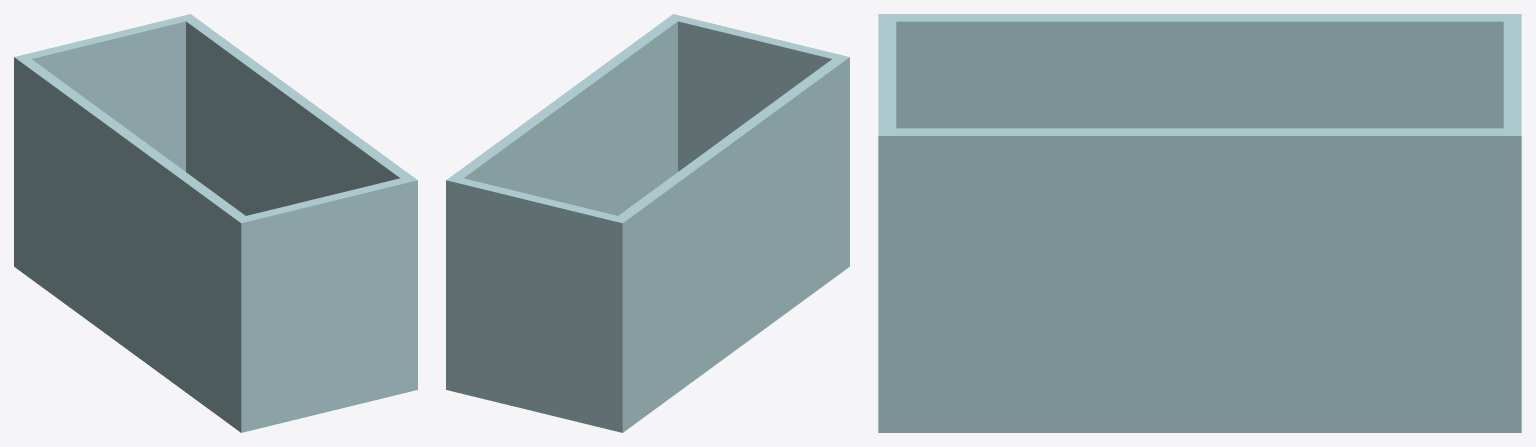
The model's file is aquarium.fbx.
3 views of the same model, side by side, from view 1: azimuth 30°, elevation 25°; view 2: azimuth 150°, elevation 25°; view 3: azimuth 270°, elevation 25° (orthographic). The views are drawn at different scales.
Parts seen in each view (by area): view 1: AQUARIUM; view 2: AQUARIUM; view 3: AQUARIUM.
Boxes of the visible parts, x1=… form: AQUARIUM: x1=14, y1=14, x2=417, y2=432; AQUARIUM: x1=446, y1=14, x2=849, y2=432; AQUARIUM: x1=878, y1=14, x2=1521, y2=432.
Size of the model in its own units: 27.18 by 30.83 by 60.54.
